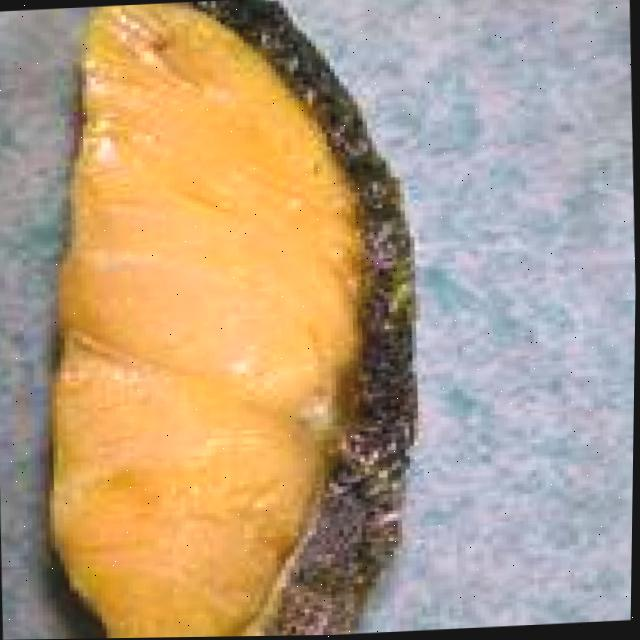熟制海鲜: (5, 0, 412, 640)
